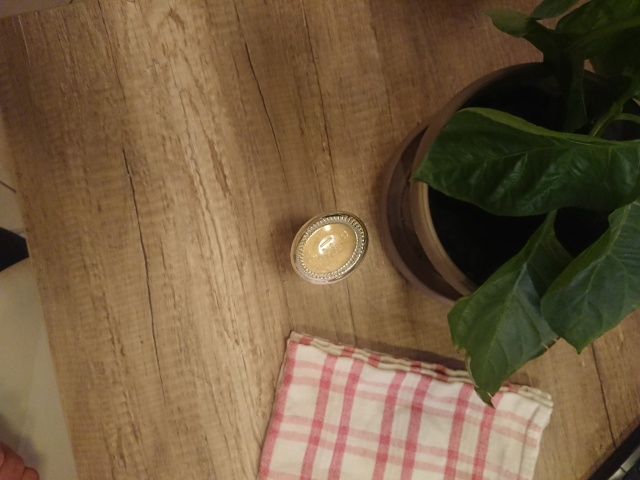Kotanyi Garlic Granules 70g: (287, 208, 371, 288)
